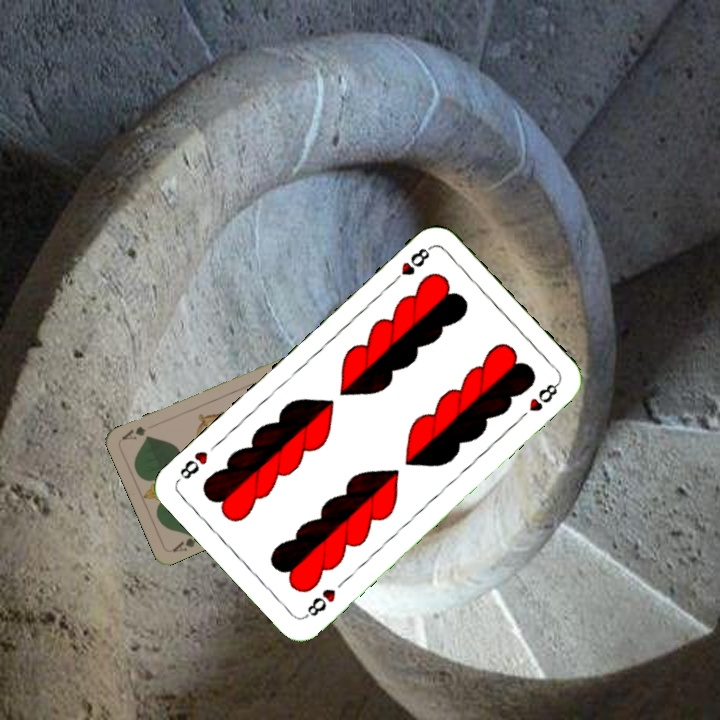GA: (168, 529, 199, 555)
H8: (387, 242, 435, 287), (301, 584, 339, 621)
